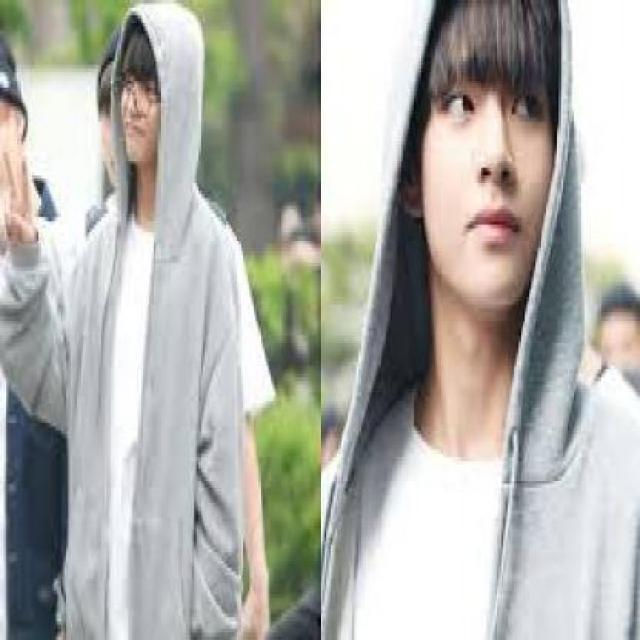glasses: (112, 58, 153, 118)
